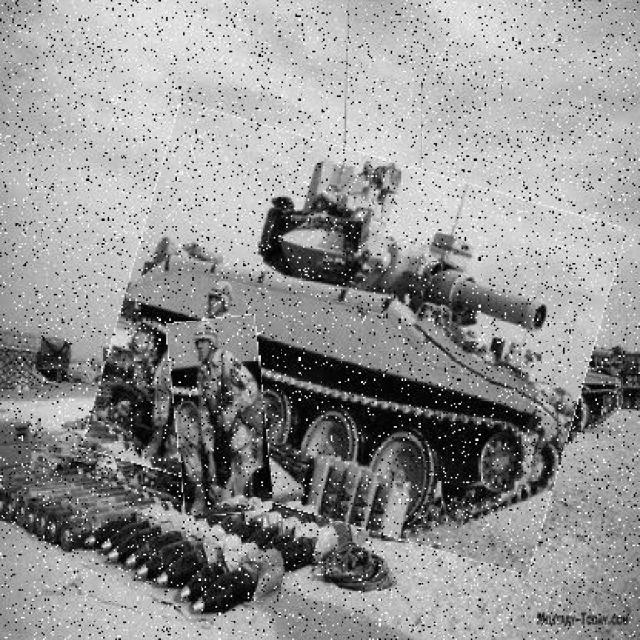Person: (172, 318, 270, 516)
Tank: (103, 132, 607, 549)
